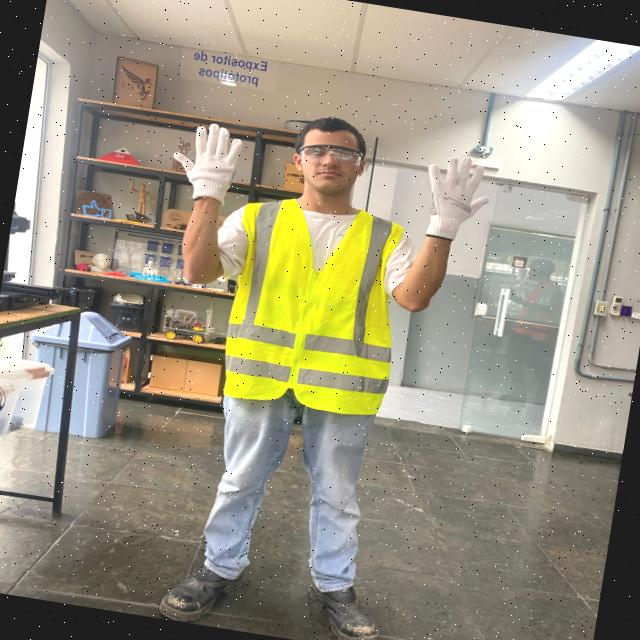BOTA: (154, 554, 250, 626), (305, 568, 377, 640)
COLETE: (219, 196, 410, 412)
LUVA: (164, 124, 246, 206), (418, 155, 494, 242)
OCULOS: (301, 140, 363, 168)
